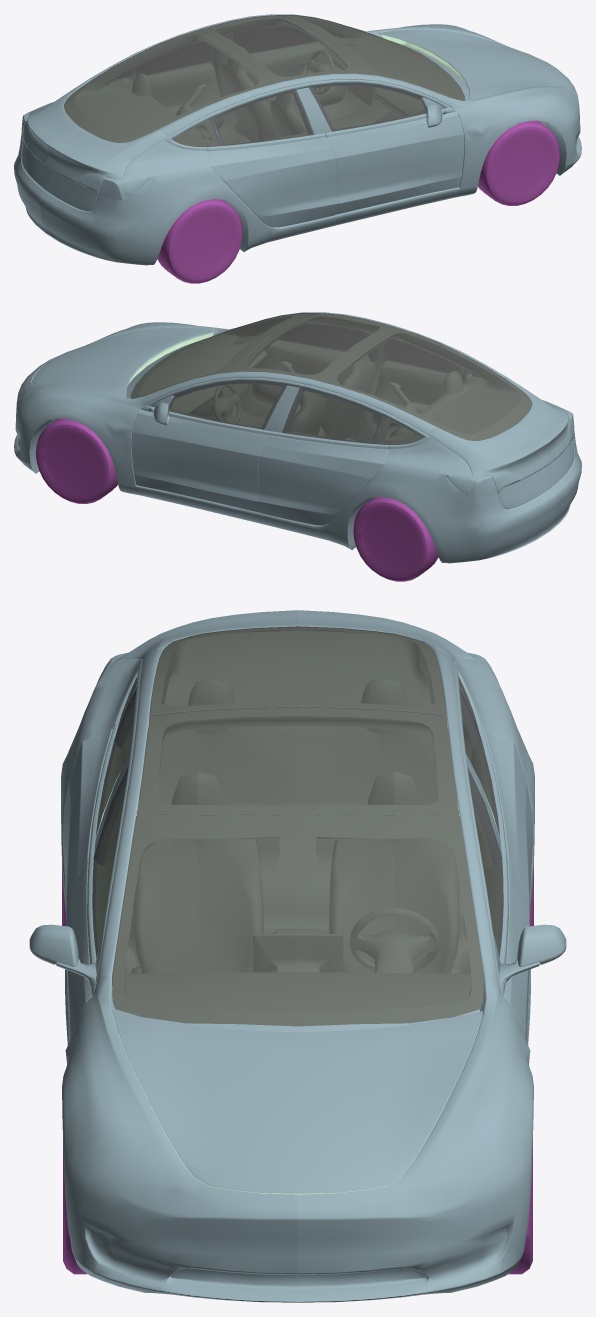
The picture shows the model from 3 angles, top to bottom: view 1: azimuth 30°, elevation 25°; view 2: azimuth 150°, elevation 25°; view 3: azimuth 270°, elevation 25°; orthographic projection. The views are drawn at different scales.
Parts seen in each view (by area): view 1: exterior, glass, interior, Fdoor_L_ext, Rdoor_L_ext, trunk_ext, hood, Fdoor_L_glass (×2), rear_wheel_R, Fwheel_R, Rdoor_L_glass (×2), Rdoor_L_int (+1 smaller); view 2: exterior, glass, interior, Fdoor_L_ext, Rdoor_L_ext, trunk_ext, hood, Fdoor_L_glass (×2), rear_wheel_L, Fwheel_L, Rdoor_L_glass (×2), Rdoor_L_int (+1 smaller); view 3: glass, interior, exterior, hood, Rdoor_L_ext (×2), Fdoor_L_ext (×2), trunk_ext, Fdoor_L_glass (×2), Fdoor_L_mirror (×2), Rdoor_L_glass (×2).
Boxes of the visible parts, x1,y1,x2,y2 form: exterior: (14,14,581,265); glass: (64,15,465,147); interior: (64,16,564,146); Fdoor_L_ext: (325,97,464,214); Rdoor_L_ext: (207,133,338,227); trunk_ext: (21,78,168,211); hood: (377,29,563,99); Fdoor_L_glass (×2): (233,27,426,131); rear_wheel_R: (157,199,242,283); Fwheel_R: (478,120,560,205); Rdoor_L_glass (×2): (136,42,313,145); Rdoor_L_int: (149,63,223,129); exterior: (14,312,581,563); glass: (130,313,531,445); interior: (31,314,531,444); Fdoor_L_ext: (131,395,270,512); Rdoor_L_ext: (257,431,388,525); trunk_ext: (427,376,574,509); hood: (32,327,218,397); Fdoor_L_glass (×2): (169,325,362,429); rear_wheel_L: (353,497,438,581); Fwheel_L: (35,418,117,503); Rdoor_L_glass (×2): (282,340,459,443); Rdoor_L_int: (372,361,446,427); glass: (112,626,483,1026); interior: (103,628,492,1194); exterior: (61,630,534,1302); hood: (113,1011,482,1193); Rdoor_L_ext (×2): (62,724,533,988); Fdoor_L_ext (×2): (56,851,539,1044); trunk_ext: (115,610,480,661); Fdoor_L_glass (×2): (92,767,503,957); Fdoor_L_mirror (×2): (29,924,566,966); Rdoor_L_glass (×2): (95,688,500,836).
Size of the model in its own units: 469 by 145 by 209.
